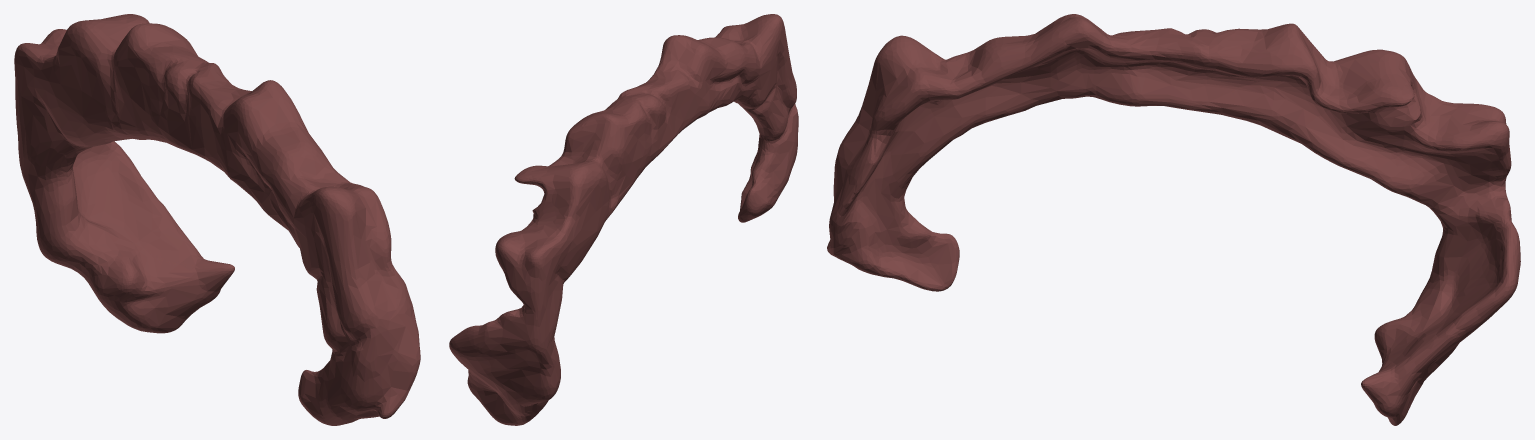
The model's file is Cingulate_gyrus_right1.obj.
3 renders of one model, left to right at view 1: azimuth 30°, elevation 25°; view 2: azimuth 150°, elevation 25°; view 3: azimuth 270°, elevation 25°, orthographic. The views are drawn at different scales.
Visible parts, largest first — view 1: obj0; view 2: obj0; view 3: obj0.
Boxes of the visible parts, x1,y1,x2,y2 form: obj0: [14, 14, 420, 425]; obj0: [449, 14, 798, 425]; obj0: [827, 14, 1520, 425].
Size of the model in its own units: 13.55 by 31.89 by 53.22.
Materials: 1 (1 with a texture image).
